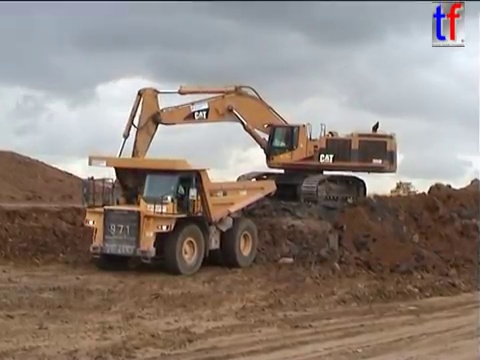excavator: (101, 81, 400, 226)
truck: (79, 153, 279, 275), (388, 180, 418, 202)
